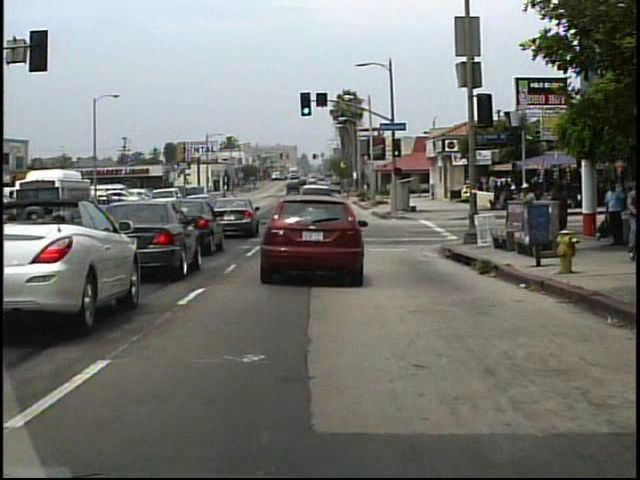person: (514, 179, 538, 241), (552, 177, 573, 245), (601, 181, 622, 248)
